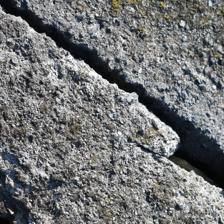Crack: (2, 1, 219, 183)
